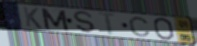C: (127, 16, 152, 38)
K: (22, 6, 43, 30)
M: (39, 7, 71, 32)
O: (152, 17, 176, 41)
S: (73, 10, 97, 34)
T: (97, 11, 119, 37)
